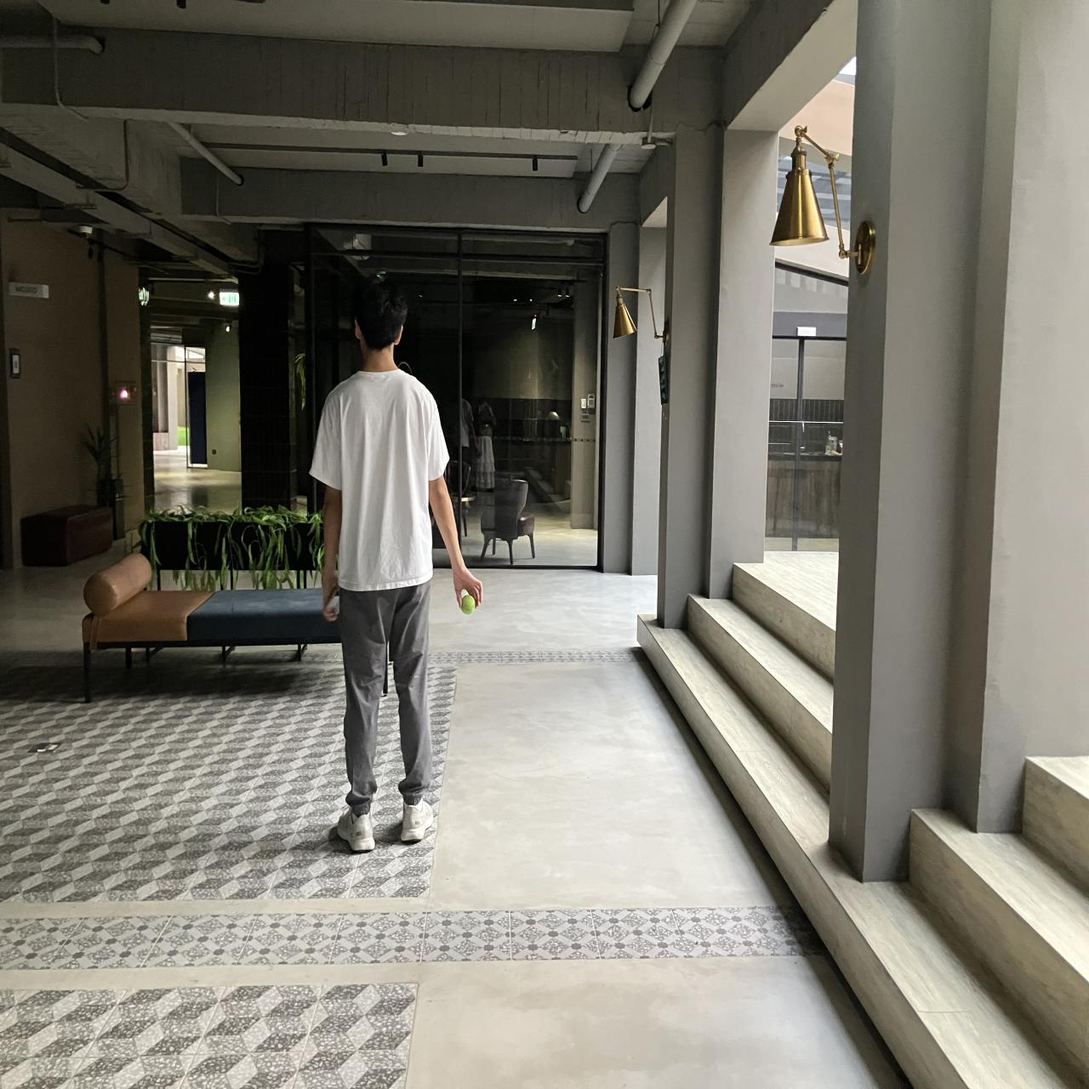person: (311, 280, 482, 851)
tennisball: (460, 593, 476, 616)
